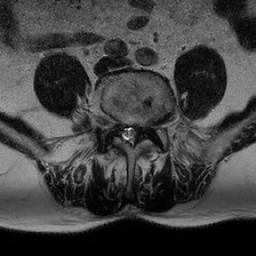CCS_normal: (126, 122, 134, 150)
LFS_severe_stenosis: (142, 122, 148, 140)
LLS_severe_stenosis: (134, 123, 141, 142)
RFS_normal: (114, 117, 122, 139)
RLS_normal: (121, 123, 128, 144)
